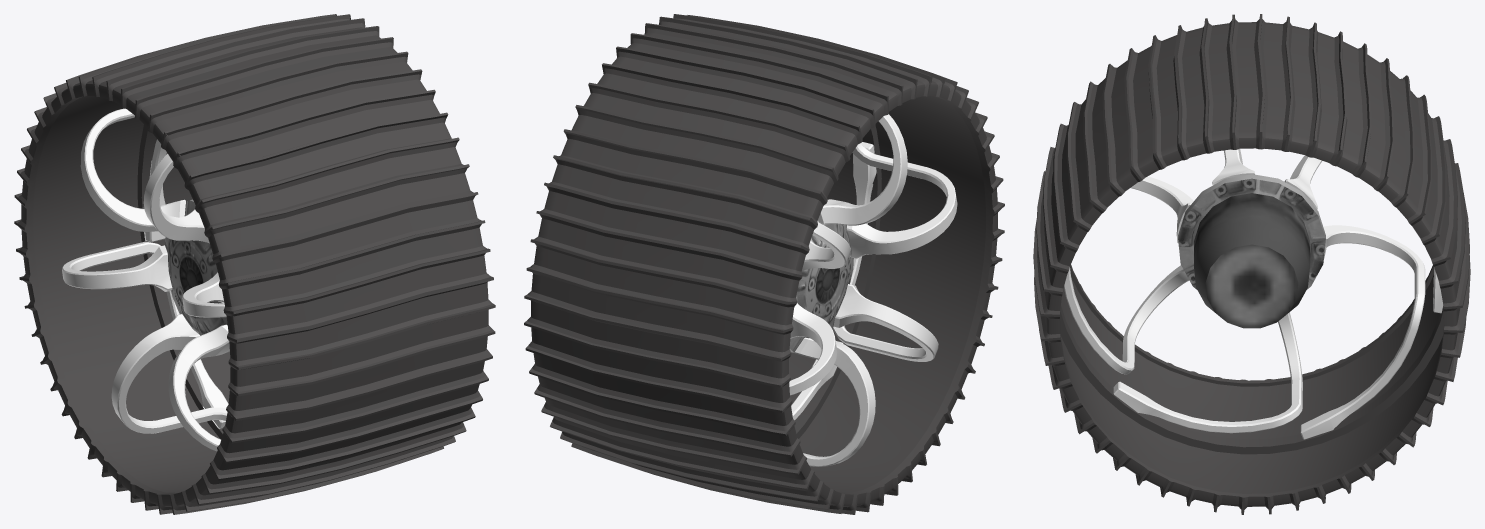
The model's file is wheel_right.glb.
3 views of the same model, side by side, from view 1: azimuth 30°, elevation 25°; view 2: azimuth 150°, elevation 25°; view 3: azimuth 270°, elevation 25° (orthographic). The views are drawn at different scales.
Parts seen in each view (by area): view 1: Wheels_objs.003; view 2: Wheels_objs.003; view 3: Wheels_objs.003.
Part boxes in pixels (x1,y1,x2,y2): Wheels_objs.003: [14, 14, 495, 514]; Wheels_objs.003: [524, 14, 1004, 514]; Wheels_objs.003: [1033, 14, 1470, 514].
Bounding box in the file's own units: 0.3366 × 0.5254 × 0.5254.
3 materials, 1 textured.
